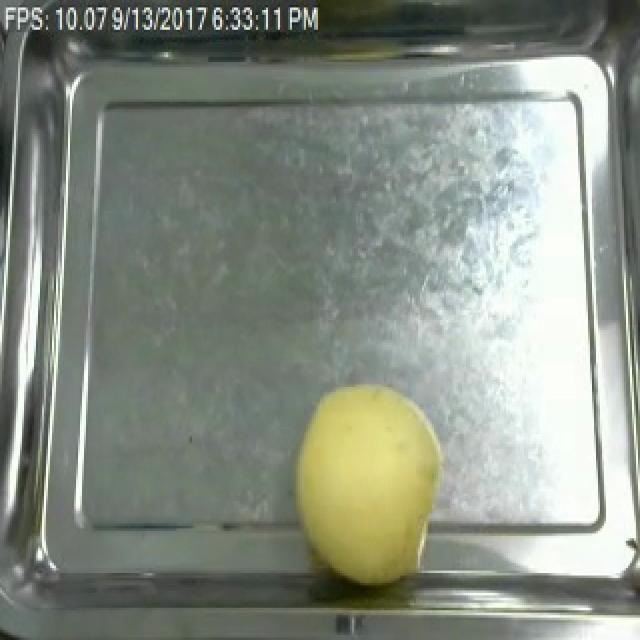Fruit: (284, 370, 452, 595)
